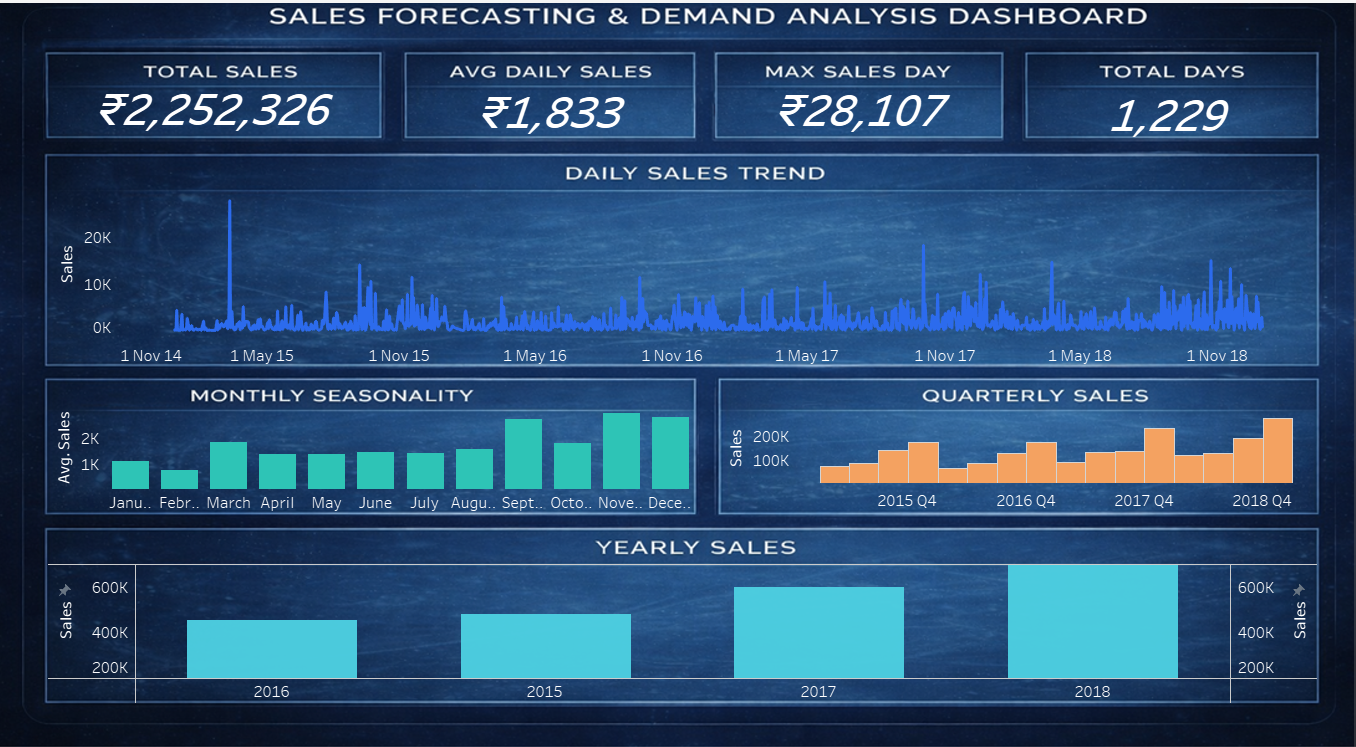

Layout of this report page (visuals, bound fields, positions):
{"tool":"tableau","page":{"name":"Sales Forecasting & Demand Analysis","canvas":[1366,768],"ordinal":0},"visuals":[{"type":"filter","title":"Daily Sales Trend","param":"[federated.1rk9d3k0by86e71fxnigx1hdd8xi].[none:Year:qk]","box":[1196,2,133,38]},{"type":"worksheet","title":"KPI Total Sales","mark":"Automatic","box":[69,69,317,83]},{"type":"worksheet","title":"KPI Avg Sales","mark":"Automatic","box":[470,72,231,82]},{"type":"worksheet","title":"KPI Max Sales","mark":"Automatic","box":[716,76,319,88]},{"type":"worksheet","title":"KPI Total Days","mark":"Automatic","box":[1054,81,256,84]},{"type":"worksheet","title":"Daily Sales Trend","mark":"Line","rows":["Sales"],"cols":["Date"],"box":[58,189,1269,176]},{"type":"worksheet","title":"Monthly Seasonality","mark":"Bar","rows":["Sales"],"cols":["Calculation_2040412173719347201"],"box":[55,406,649,104]},{"type":"worksheet","title":"Quarterly Sales","mark":"Bar","rows":["Sales"],"cols":["Date"],"box":[727,412,598,98]},{"type":"worksheet","title":"Yearly Sales","mark":"Bar","rows":["Sales","Sales"],"cols":["year"],"box":[57,561,1270,140]}]}

Visuals, with their boxes in screenshot pixels (x1, y1, x2, y2), scaled from the page's 1366x768 canvas onto the 1356x747 screenshot:
"Daily Sales Trend" filter: 1187/2/1319/39
"KPI Total Sales" worksheet: 68/67/383/148
"KPI Avg Sales" worksheet: 467/70/696/150
"KPI Max Sales" worksheet: 711/74/1027/160
"KPI Total Days" worksheet: 1046/79/1300/160
"Daily Sales Trend" worksheet (Line marks): 58/184/1317/355
"Monthly Seasonality" worksheet (Bar marks): 55/395/699/496
"Quarterly Sales" worksheet (Bar marks): 722/401/1315/496
"Yearly Sales" worksheet (Bar marks): 57/546/1317/682
